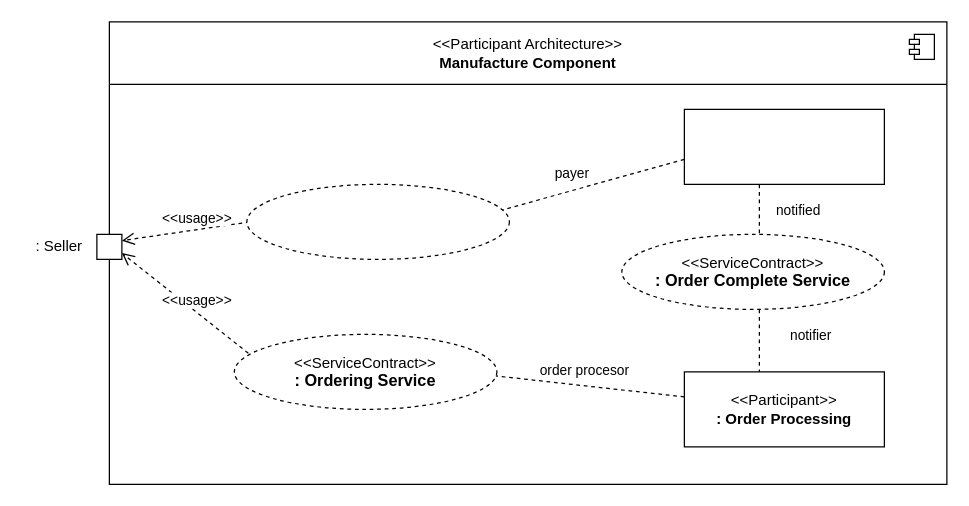
The diagram is 969 pixels wide and 506 high, and some of its shapes have lost their labels. Here are the shapes that lost their labels. From the top down, the centre of each, then its label:
At pixel 783 146: "<<Participant>> : Accounting".
At pixel 377 221: "<<ServiceContract>> : Invoicing Service".
